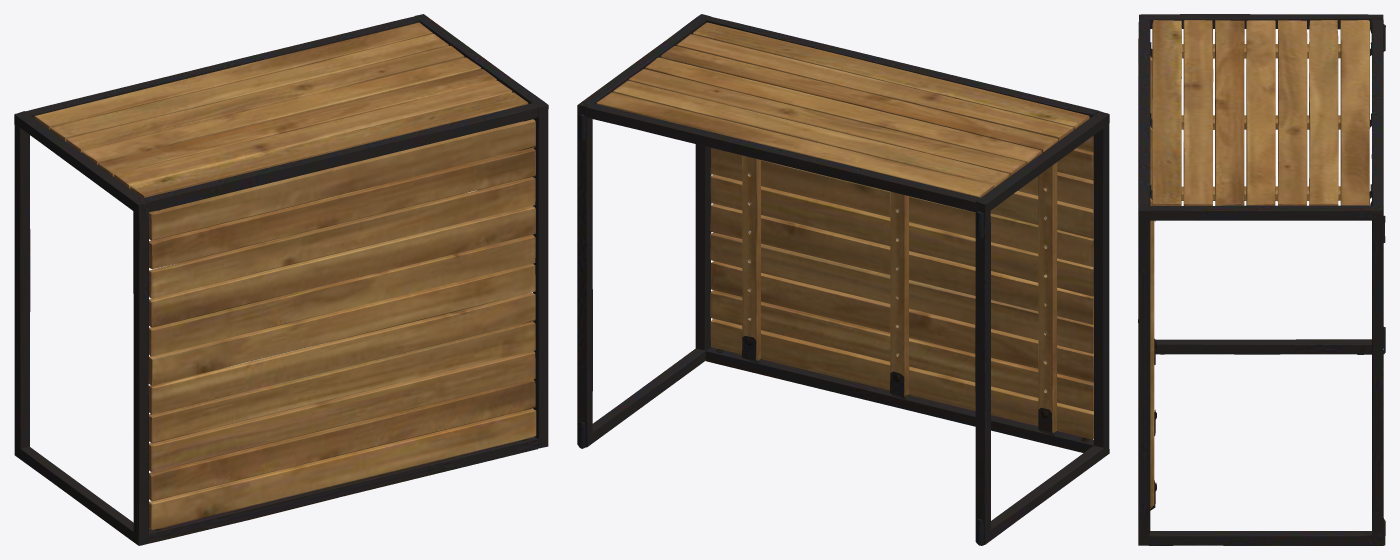
The model's file is 04 - HÅKANSKÄR Coffee table - outdoorlight brown stained 80x64 cm.glb.
The picture shows the model from 3 angles, left to right: view 1: azimuth 30°, elevation 25°; view 2: azimuth 150°, elevation 25°; view 3: azimuth 270°, elevation 25°; orthographic projection.
Visible parts, largest first — view 1: ASY_ART_70597162_S01_NV01; view 2: ASY_ART_70597162_S01_NV01; view 3: ASY_ART_70597162_S01_NV01.
Boxes of the visible parts, x1,y1,x2,y2 form: ASY_ART_70597162_S01_NV01: (14, 14, 548, 545); ASY_ART_70597162_S01_NV01: (577, 14, 1109, 545); ASY_ART_70597162_S01_NV01: (1138, 14, 1385, 545).
Bounding box in the file's own units: 0.8006 × 0.6423 × 0.4264.
Materials: 1 (1 with a texture image).
